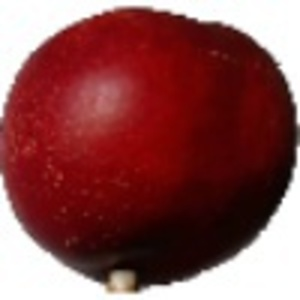nectarina: (1, 1, 300, 298)
